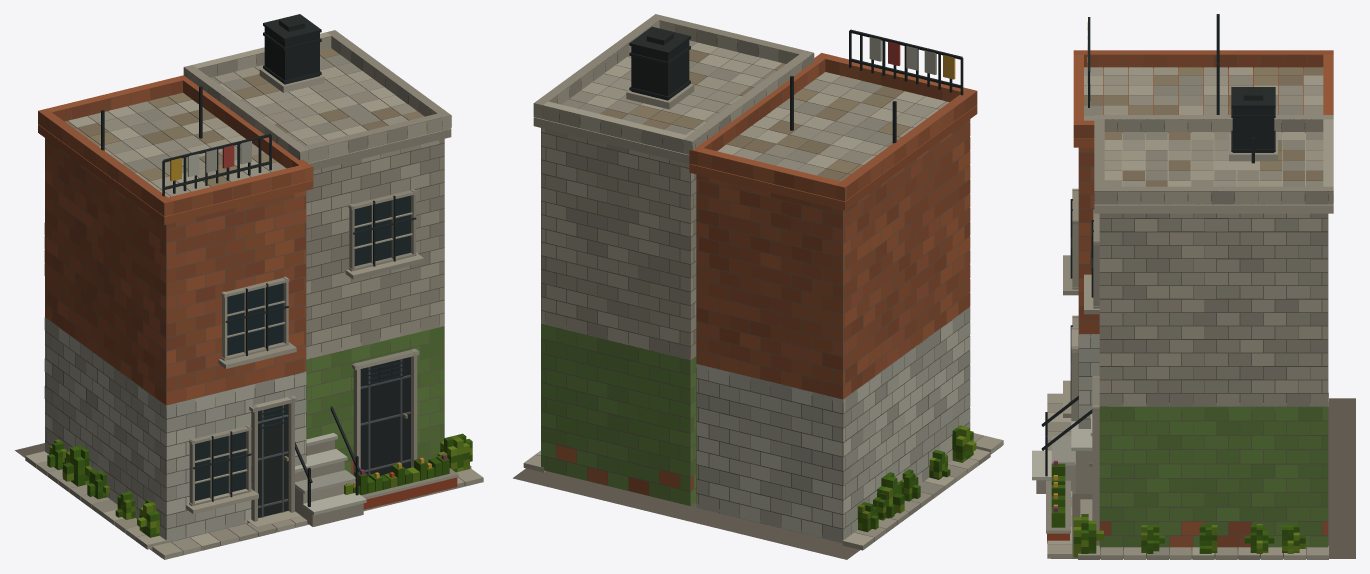
File: SM_Mapa_065.fbx
The picture shows the model from 3 angles, left to right: view 1: azimuth 30°, elevation 25°; view 2: azimuth 150°, elevation 25°; view 3: azimuth 270°, elevation 25°; orthographic projection. The views are drawn at different scales.
Parts seen in each view (by area): view 1: SM_Mapa_065; view 2: SM_Mapa_065; view 3: SM_Mapa_065.
Boxes of the visible parts, x1,y1,x2,y2 form: SM_Mapa_065: (15,14,483,559); SM_Mapa_065: (513,14,1003,559); SM_Mapa_065: (1032,14,1355,559).
Bounding box in the file's own units: 8 × 6.67 × 9.57.
